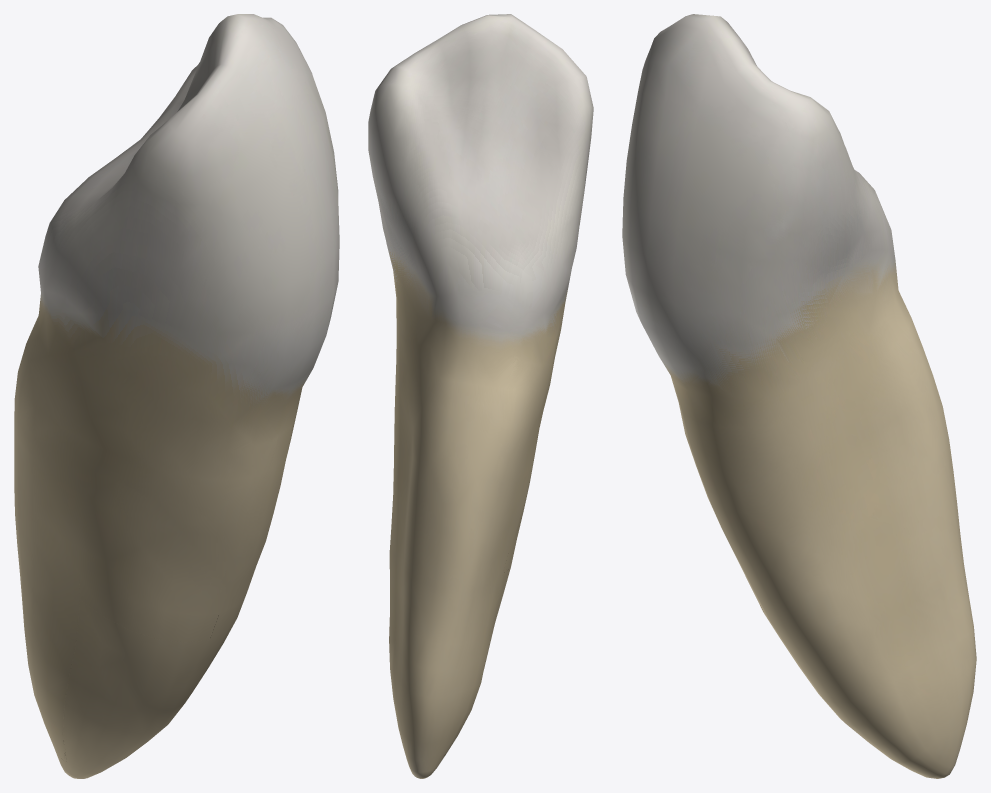
The model's file is tooth-33.glb.
The picture shows the model from 3 angles, left to right: view 1: azimuth 30°, elevation 25°; view 2: azimuth 150°, elevation 25°; view 3: azimuth 270°, elevation 25°; orthographic projection. The views are drawn at different scales.
Visible parts, largest first — view 1: LL3seam_2:ZBrushPolyMesh3D_Mandible_ll3_0; view 2: LL3seam_2:ZBrushPolyMesh3D_Mandible_ll3_0; view 3: LL3seam_2:ZBrushPolyMesh3D_Mandible_ll3_0.
Boxes of the visible parts, x1,y1,x2,y2 form: LL3seam_2:ZBrushPolyMesh3D_Mandible_ll3_0: (14, 14, 339, 778); LL3seam_2:ZBrushPolyMesh3D_Mandible_ll3_0: (368, 14, 593, 778); LL3seam_2:ZBrushPolyMesh3D_Mandible_ll3_0: (622, 14, 976, 778).
Size of the model in its own units: 0.2398 by 0.7991 by 0.3292.
Materials: 1 (1 with a texture image).
